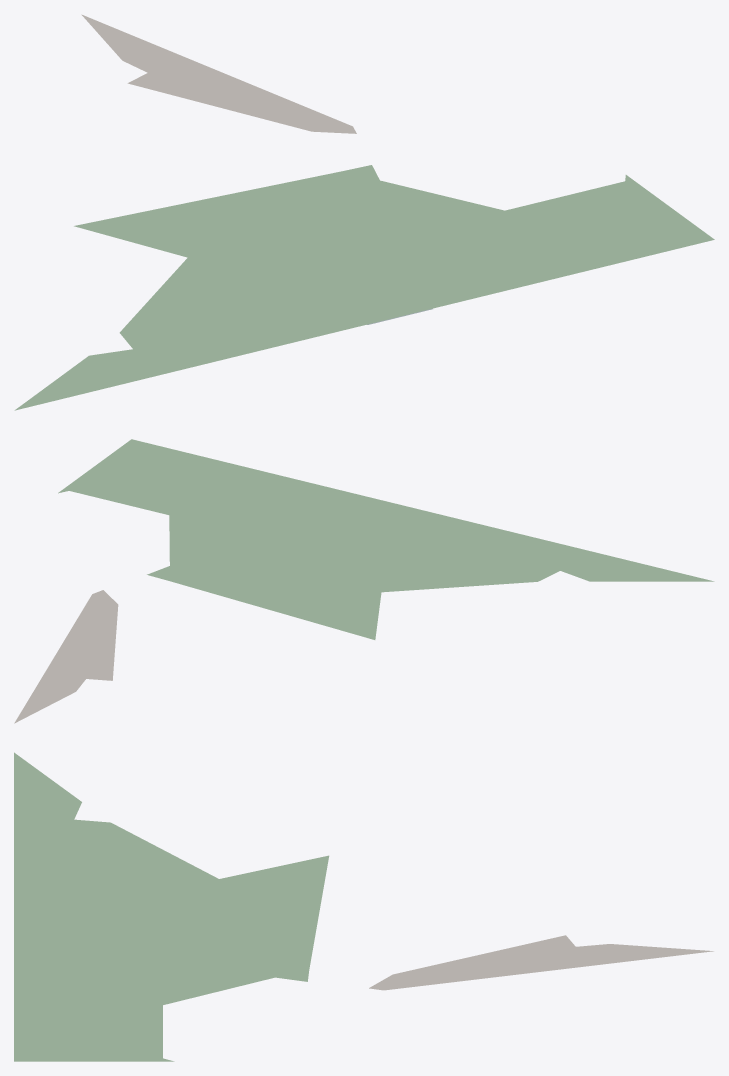
Rendered from 135_79_mid.glb.
3 views of the same model, one above another, from view 1: azimuth 30°, elevation 25°; view 2: azimuth 150°, elevation 25°; view 3: azimuth 270°, elevation 25° (orthographic). The views are drawn at different scales.
Bounding box in the file's own units: 413 × 1.45 × 396.
